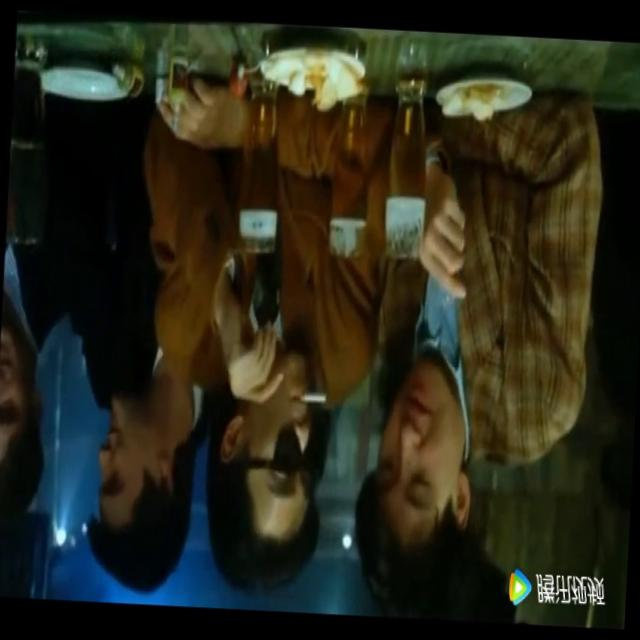smoke: (299, 385, 328, 408)
